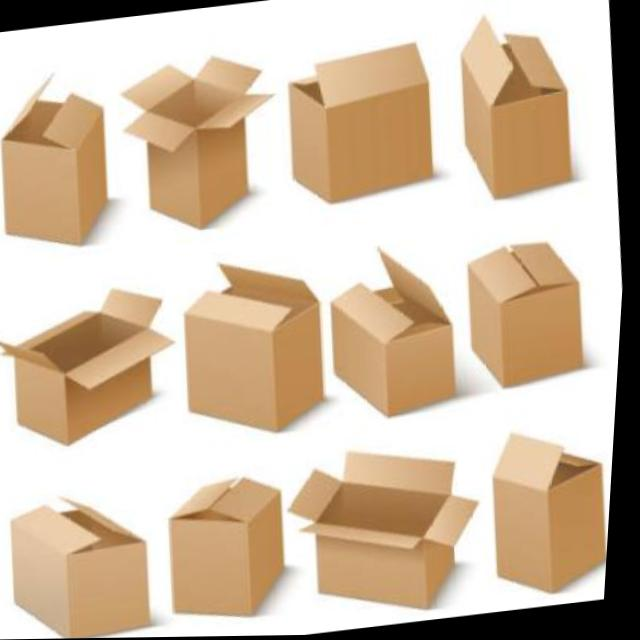box: (280, 435, 504, 636), (168, 229, 345, 470), (109, 19, 296, 247), (318, 241, 483, 468), (440, 0, 603, 229), (273, 14, 453, 219), (0, 271, 192, 462), (456, 215, 619, 418), (4, 481, 183, 640), (163, 465, 311, 638), (485, 419, 620, 606), (0, 65, 127, 253)
